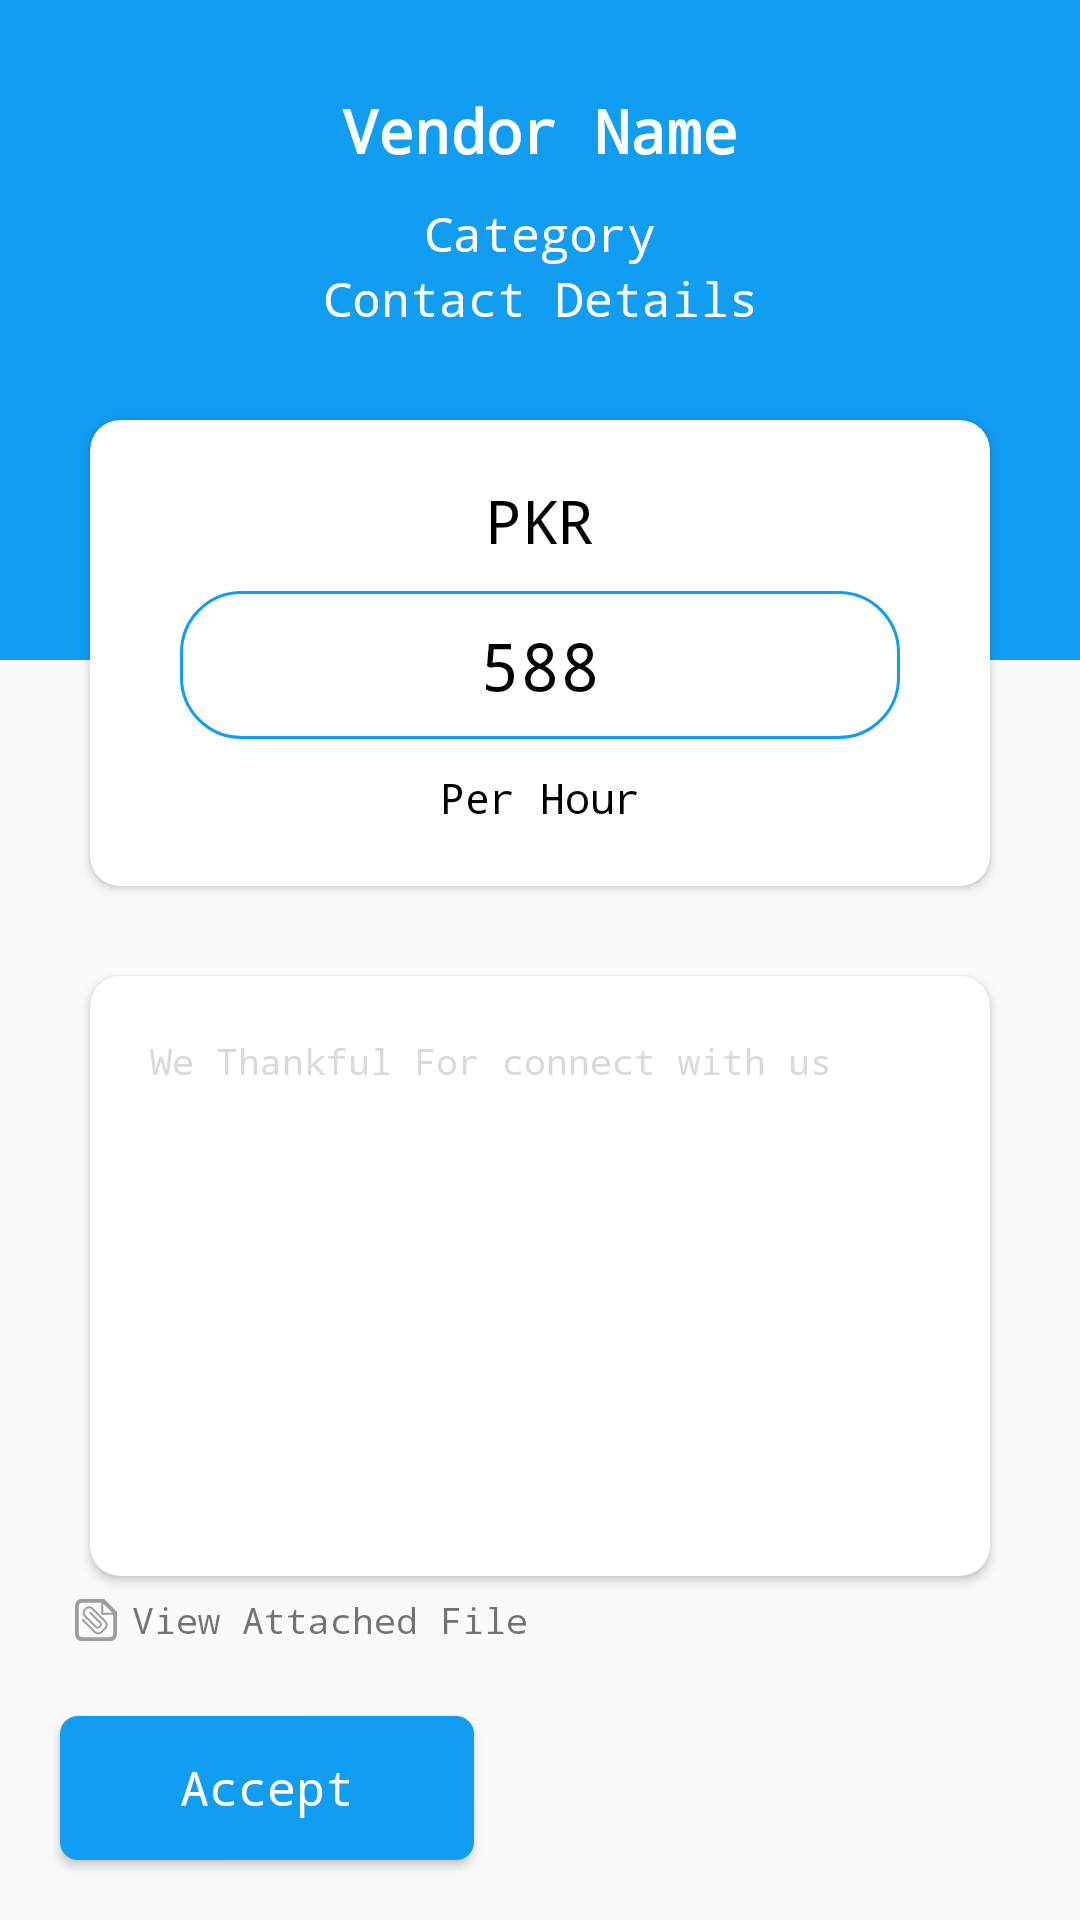

Icon bounding boxes for this 1080px×1920px phone screenshot, format (x1, y1, x2, y2):
file attachment: (75, 1599, 117, 1641)
